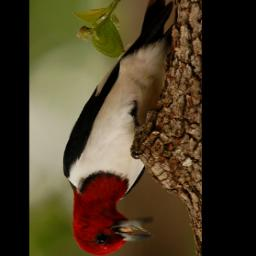Woodpecker: (62, 0, 174, 256)
